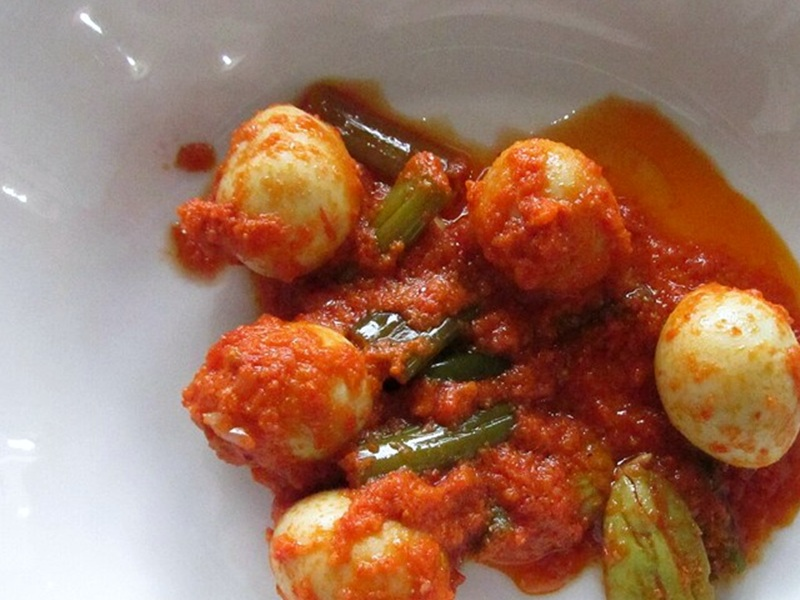Telur Balado: (192, 109, 792, 594)
